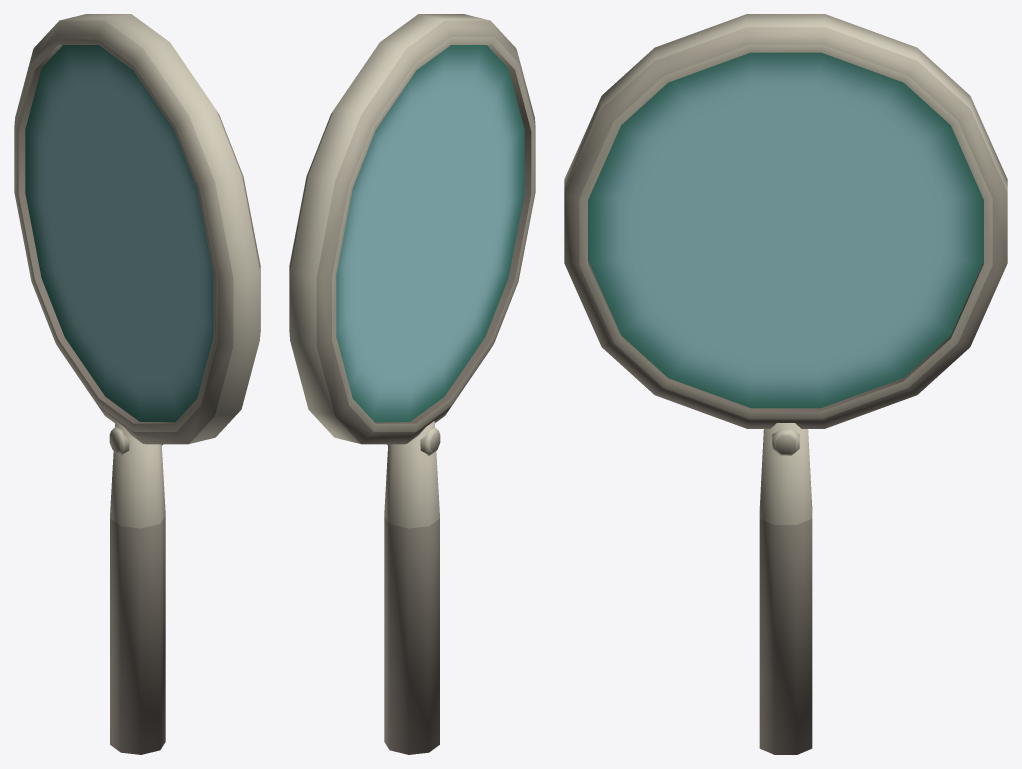
Rendered from Magnifying_Glass.fbx.
3 renders of one model, left to right at view 1: azimuth 30°, elevation 25°; view 2: azimuth 150°, elevation 25°; view 3: azimuth 270°, elevation 25°, orthographic.
Parts seen in each view (by area): view 1: SM_MagnifyingGlassLens, SM_MagnifyingGlassHandle; view 2: SM_MagnifyingGlassLens, SM_MagnifyingGlassHandle; view 3: SM_MagnifyingGlassLens, SM_MagnifyingGlassHandle.
Part boxes in pixels (bbox=[...]): SM_MagnifyingGlassLens: bbox=[25, 45, 213, 422]; SM_MagnifyingGlassHandle: bbox=[14, 14, 260, 754]; SM_MagnifyingGlassLens: bbox=[336, 45, 524, 422]; SM_MagnifyingGlassHandle: bbox=[289, 14, 535, 754]; SM_MagnifyingGlassLens: bbox=[588, 52, 983, 408]; SM_MagnifyingGlassHandle: bbox=[564, 14, 1007, 754].
Size of the model in its own units: 2.08 by 29.68 by 16.49.
